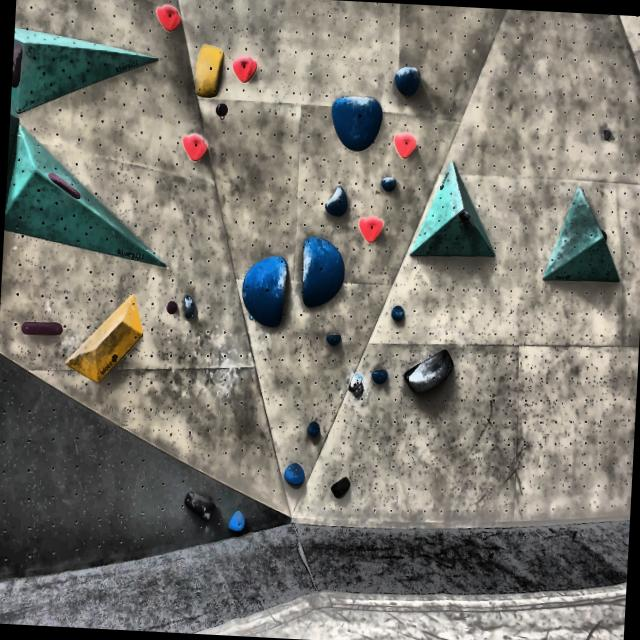Hold: (66, 288, 145, 396), (238, 253, 292, 329), (297, 235, 349, 310), (328, 98, 386, 158), (401, 339, 456, 399), (193, 44, 225, 100), (43, 170, 84, 203), (20, 316, 67, 341), (184, 488, 216, 524), (232, 52, 264, 85), (394, 68, 424, 103), (322, 183, 350, 220), (394, 129, 426, 160), (12, 40, 30, 92), (356, 217, 386, 246), (156, 3, 182, 34), (186, 134, 212, 164), (282, 459, 306, 486), (227, 505, 247, 533), (369, 364, 392, 388), (376, 173, 401, 192), (332, 476, 351, 500), (347, 376, 365, 399), (184, 292, 198, 321), (596, 222, 611, 245), (458, 208, 473, 230), (388, 306, 407, 322), (325, 330, 341, 347), (215, 102, 229, 121), (306, 422, 322, 437), (597, 128, 613, 142), (165, 298, 179, 314), (634, 158, 640, 187)
